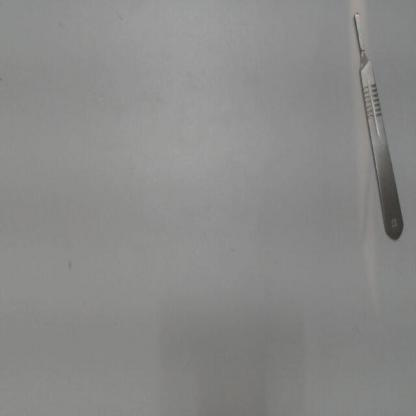No.4 BP Handle: (339, 3, 412, 247)
